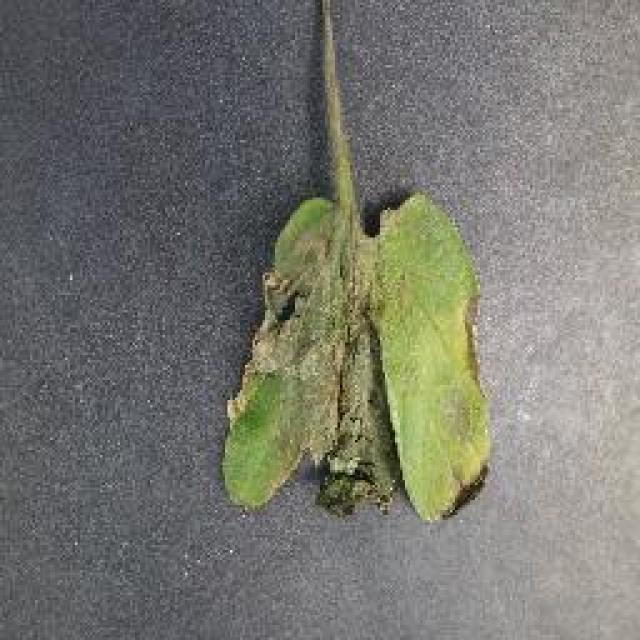Tomato late blight leaf: (218, 185, 508, 525)
